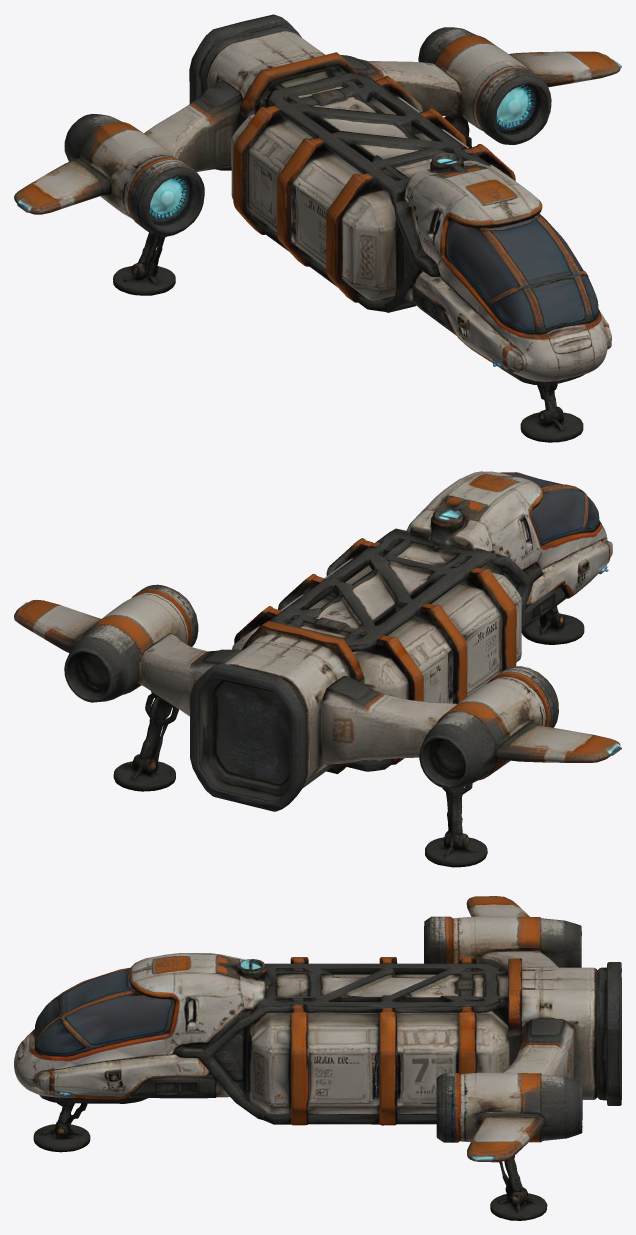
The model's file is skiff.glb.
3 views of the same model, one above another, from view 1: azimuth 30°, elevation 25°; view 2: azimuth 150°, elevation 25°; view 3: azimuth 270°, elevation 25° (orthographic). The views are drawn at different scales.
Parts seen in each view (by area): view 1: tripo_node_24b43171-e1b0-4c52-ab09-6253531eb46d; view 2: tripo_node_24b43171-e1b0-4c52-ab09-6253531eb46d; view 3: tripo_node_24b43171-e1b0-4c52-ab09-6253531eb46d.
Part boxes in pixels (bbox=[...]): tripo_node_24b43171-e1b0-4c52-ab09-6253531eb46d: bbox=[14, 14, 621, 442]; tripo_node_24b43171-e1b0-4c52-ab09-6253531eb46d: bbox=[14, 471, 621, 867]; tripo_node_24b43171-e1b0-4c52-ab09-6253531eb46d: bbox=[14, 896, 621, 1220].
Bounding box in the file's own units: 0.9997 × 0.3135 × 0.9751.
Materials: 1 (1 with a texture image).
